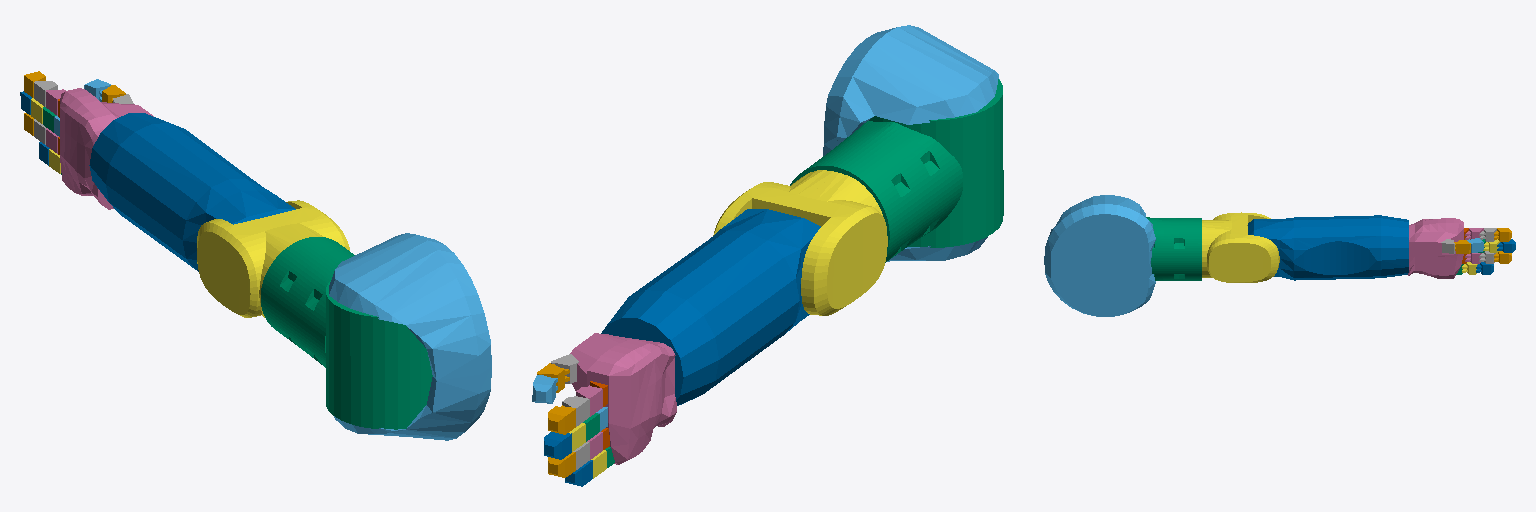
URDF robot description (ar600_hand):
<?xml version="1.0" ?>
<!-- =================================================================================== -->
<!-- |    This document was autogenerated by xacro from ar600.hand.urdf.xacro          | -->
<!-- |    EDITING THIS FILE BY HAND IS NOT RECOMMENDED                                 | -->
<!-- =================================================================================== -->
<robot name="ar600_hand" xmlns:controller="http://playerstage.sourceforge.net/gazebo/xmlschema/#controller" xmlns:interface="http://playerstage.sourceforge.net/gazebo/xmlschema/#interface" xmlns:sensor="http://playerstage.sourceforge.net/gazebo/xmlschema/#sensor" xmlns:xacro="http://ros.org/wiki/xacro">
  <gazebo>
    <plugin filename="libgazebo_ros_control.so" name="gazebo_ros_control">
      <robotNamespace>/ar600</robotNamespace>
    </plugin>
    <plugin filename="libgazebo_ros_controller_manager.so" name="gazebo_ros_controller_manager">
      <alwaysOn>true</alwaysOn>
      <updateRate>1000.0</updateRate>
      <robotNamespace>/ar600</robotNamespace>
    </plugin>
  </gazebo>
  <link name="base_link">
    <inertial>
      <mass value="10"/>
      <inertia ixx="1.0" ixy="0.0" ixz="0.0" iyy="1.0" iyz="0.0" izz="1.0"/>
    </inertial>
  </link>
  <link name="left_shoulder">
    <visual>
      <geometry>
        <mesh filename="package://ar600_description/meshes/left_shoulder_low.dae"/>
      </geometry>
    </visual>
    <inertial>
      <mass value="1"/>
      <inertia ixx="1.0" ixy="0.0" ixz="0.0" iyy="1.0" iyz="0.0" izz="1.0"/>
    </inertial>
  </link>
  <link name="left_upper_forearm">
    <visual>
      <geometry>
        <mesh filename="package://ar600_description/meshes/left_upper_arm_high.dae"/>
      </geometry>
    </visual>
    <inertial>
      <mass value="4"/>
      <inertia ixx="1.0" ixy="0.0" ixz="0.0" iyy="1.0" iyz="0.0" izz="1.0"/>
    </inertial>
    <collision>
      <geometry>
        <mesh filename="package://ar600_description/meshes/phys_model/forearm.stl"/>
      </geometry>
    </collision>
  </link>
  <link name="left_elbow">
    <visual>
      <geometry>
        <mesh filename="package://ar600_description/meshes/elbow_low.dae"/>
      </geometry>
    </visual>
    <inertial>
      <mass value="1"/>
      <inertia ixx="1.0" ixy="0.0" ixz="0.0" iyy="1.0" iyz="0.0" izz="1.0"/>
    </inertial>
    <collision>
      <geometry>
        <mesh filename="package://ar600_description/meshes/phys_model/elbow.stl"/>
      </geometry>
    </collision>
  </link>
  <link name="left_arm_link">
    <visual>
      <geometry>
        <mesh filename="package://ar600_description/meshes/left_arm.dae"/>
      </geometry>
    </visual>
    <inertial>
      <mass value="3"/>
      <inertia ixx="1.0" ixy="0.0" ixz="0.0" iyy="1.0" iyz="0.0" izz="1.0"/>
    </inertial>
    <collision>
      <geometry>
        <mesh filename="package://ar600_description/meshes/phys_model/arm.stl"/>
      </geometry>
    </collision>
  </link>
  <link name="left_hand_effector_link">
    <inertial>
      <mass value=".1"/>
      <inertia ixx="1.0" ixy="0.0" ixz="0.0" iyy="1.0" iyz="0.0" izz="1.0"/>
    </inertial>
  </link>
  <joint name="torso_left_shoulder" type="revolute">
    <parent link="base_link"/>
    <child link="left_shoulder"/>
    <origin rpy="0 0 1.57" xyz="0 0 0"/>
    <limit effort="1000.0" lower="-0.707" upper="1.57" velocity="0.5"/>
    <axis xyz="0 -1 0"/>
    <dynamics damping="20000.0"/>
  </joint>
  <joint name="left_upper_forearm_shoulder" type="revolute">
    <parent link="left_shoulder"/>
    <child link="left_upper_forearm"/>
    <origin rpy="-1.57 0 1.57" xyz="0 0.055 0"/>
    <limit effort="1000.0" lower="0.0" upper="1.57" velocity="0.5"/>
    <axis xyz="0 -1.0 0"/>
    <dynamics damping="20000.0"/>
  </joint>
  <joint name="left_upper_forearm_left_lower_forearm" type="revolute">
    <parent link="left_upper_forearm"/>
    <child link="left_elbow"/>
    <origin rpy="0 0 0" xyz="0 0 -0.12"/>
    <limit effort="1000.0" lower="-1.57" upper="1.57" velocity="0.5"/>
    <axis xyz="0 0 1"/>
    <dynamics damping="20000.0"/>
  </joint>
  <joint name="left_lower_forearm_arm" type="revolute">
    <parent link="left_elbow"/>
    <child link="left_arm_link"/>
    <origin rpy="0 0 0" xyz="0 0 -0.1"/>
    <limit effort="1000.0" lower="0" upper="1.57" velocity="0.5"/>
    <axis xyz="-1 0 0"/>
    <dynamics damping="20000.0"/>
  </joint>
  <joint name="left_lower_arm_effector" type="revolute">
    <parent link="left_arm_link"/>
    <child link="left_hand_effector_link"/>
    <limit effort="1000.0" lower="-0.707" upper="0.707" velocity="0.5"/>
    <origin rpy="0 0 0" xyz="0.005 0.005 -0.21"/>
    <axis xyz="0 0 -1"/>
    <dynamics damping="20000.0"/>
  </joint>
  <link name="left_palm">
    <visual>
      <geometry>
        <mesh filename="package://ar600_description/meshes/left_palm_vis.dae"/>
      </geometry>
    </visual>
    <inertial>
      <mass value="0.1"/>
      <inertia ixx="1.0" ixy="0.0" ixz="0.0" iyy="1.0" iyz="0.0" izz="1.0"/>
    </inertial>
    <collision>
      <geometry>
        <mesh filename="package://ar600_description/meshes/left_palm.stl"/>
      </geometry>
    </collision>
  </link>
  <link name="leftbigfingerseg1">
    <visual>
      <geometry>
        <mesh filename="package://ar600_description/meshes/finger_segment.dae"/>
      </geometry>
    </visual>
    <inertial>
      <mass value="0.05"/>
      <inertia ixx="1.0" ixy="0.0" ixz="0.0" iyy="1.0" iyz="0.0" izz="1.0"/>
    </inertial>
    <collision>
      <geometry>
        <mesh filename="package://ar600_description/meshes/finger_segment.stl"/>
      </geometry>
    </collision>
  </link>
  <link name="leftbigfingerseg2">
    <visual>
      <geometry>
        <mesh filename="package://ar600_description/meshes/finger_segment.dae"/>
      </geometry>
    </visual>
    <inertial>
      <mass value="0.05"/>
      <inertia ixx="1.0" ixy="0.0" ixz="0.0" iyy="1.0" iyz="0.0" izz="1.0"/>
    </inertial>
    <collision>
      <geometry>
        <mesh filename="package://ar600_description/meshes/finger_segment.stl"/>
      </geometry>
    </collision>
  </link>
  <link name="leftbigfingerseg3">
    <visual>
      <geometry>
        <mesh filename="package://ar600_description/meshes/finger_tip.dae"/>
      </geometry>
    </visual>
    <inertial>
      <mass value="0.05"/>
      <inertia ixx="1.0" ixy="0.0" ixz="0.0" iyy="1.0" iyz="0.0" izz="1.0"/>
    </inertial>
    <collision>
      <geometry>
        <mesh filename="package://ar600_description/meshes/finger_segment.stl"/>
      </geometry>
    </collision>
  </link>
  <joint name="arm_left_palm" type="revolute">
    <parent link="left_hand_effector_link"/>
    <child link="left_palm"/>
    <origin rpy="0 0 -1.57" xyz="0 0 0"/>
    <limit effort="1000.0" lower="-0.707" upper="0.707" velocity="0.5"/>
    <axis xyz="0 0 -1.0"/>
    <dynamics damping="0.7"/>
  </joint>
  <joint name="left_palm_thumb1" type="fixed">
    <parent link="left_palm"/>
    <child link="leftbigfingerseg1"/>
    <origin rpy="0.314 0 3.14" xyz="0.022 -0.025 -.045"/>
    <dynamics damping="0.7"/>
  </joint>
  <joint name="left_thumb1_thumb2" type="revolute">
    <parent link="leftbigfingerseg1"/>
    <child link="leftbigfingerseg2"/>
    <origin rpy="-0.314 0 0" xyz="0 0 -0.02"/>
    <limit effort="1000.0" lower="0" upper="0.707" velocity="0.5"/>
    <axis xyz="-1.0 0 0"/>
    <dynamics damping="0.7"/>
  </joint>
  <joint name="left_thumb2_thumb3" type="revolute">
    <parent link="leftbigfingerseg2"/>
    <child link="leftbigfingerseg3"/>
    <origin rpy="-0.314 0 0" xyz="0 0 -0.02"/>
    <limit effort="1000.0" lower="0" upper="0.707" velocity="0.5"/>
    <axis xyz="-1.0 0 0"/>
    <dynamics damping="0.7"/>
  </joint>
  <link name="leftf41">
    <visual>
      <geometry>
        <mesh filename="package://ar600_description/meshes/finger_segment.dae"/>
      </geometry>
    </visual>
    <inertial>
      <mass value="0.05"/>
      <inertia ixx="1.0" ixy="0.0" ixz="0.0" iyy="1.0" iyz="0.0" izz="1.0"/>
    </inertial>
    <collision>
      <geometry>
        <mesh filename="package://ar600_description/meshes/finger_segment.stl"/>
      </geometry>
    </collision>
  </link>
  <link name="leftf42">
    <visual>
      <geometry>
        <mesh filename="package://ar600_description/meshes/finger_segment.dae"/>
      </geometry>
    </visual>
    <inertial>
      <mass value="0.05"/>
      <inertia ixx="1.0" ixy="0.0" ixz="0.0" iyy="1.0" iyz="0.0" izz="1.0"/>
    </inertial>
    <collision>
      <geometry>
        <mesh filename="package://ar600_description/meshes/finger_segment.stl"/>
      </geometry>
    </collision>
  </link>
  <link name="leftf43">
    <visual>
      <geometry>
        <mesh filename="package://ar600_description/meshes/finger_tip.dae"/>
      </geometry>
    </visual>
    <inertial>
      <mass value="0.05"/>
      <inertia ixx="1.0" ixy="0.0" ixz="0.0" iyy="1.0" iyz="0.0" izz="1.0"/>
    </inertial>
    <collision>
      <geometry>
        <mesh filename="package://ar600_description/meshes/finger_segment.stl"/>
      </geometry>
    </collision>
  </link>
  <joint name="left_palm_f4" type="fixed">
    <parent link="left_palm"/>
    <child link="leftf41"/>
    <origin rpy="0 0 0" xyz="-0.03 0.01 -0.0575"/>
    <dynamics damping="0.7"/>
  </joint>
  <joint name="left_f41_f42" type="revolute">
    <parent link="leftf41"/>
    <child link="leftf42"/>
    <origin rpy="0 0 0" xyz="0 0 -0.02"/>
    <limit effort="1000.0" lower="0" upper="0.707" velocity="0.5"/>
    <axis xyz="-1.0 0 0"/>
    <dynamics damping="0.7"/>
  </joint>
  <joint name="left_f42_f43" type="revolute">
    <parent link="leftf42"/>
    <child link="leftf43"/>
    <origin rpy="0 0 0" xyz="0 0 -0.02"/>
    <limit effort="1000.0" lower="0" upper="0.707" velocity="0.5"/>
    <axis xyz="-1.0 0 0"/>
    <dynamics damping="0.7"/>
  </joint>
  <link name="leftf11">
    <visual>
      <geometry>
        <mesh filename="package://ar600_description/meshes/finger_segment.dae"/>
      </geometry>
    </visual>
    <inertial>
      <mass value="0.05"/>
      <inertia ixx="1.0" ixy="0.0" ixz="0.0" iyy="1.0" iyz="0.0" izz="1.0"/>
    </inertial>
    <collision>
      <geometry>
        <mesh filename="package://ar600_description/meshes/finger_segment.stl"/>
      </geometry>
    </collision>
  </link>
  <link name="leftf12">
    <visual>
      <geometry>
        <mesh filename="package://ar600_description/meshes/finger_segment.dae"/>
      </geometry>
    </visual>
    <inertial>
      <mass value="0.05"/>
      <inertia ixx="1.0" ixy="0.0" ixz="0.0" iyy="1.0" iyz="0.0" izz="1.0"/>
    </inertial>
    <collision>
      <geometry>
        <mesh filename="package://ar600_description/meshes/finger_segment.stl"/>
      </geometry>
    </collision>
  </link>
  <link name="leftf13">
    <visual>
      <geometry>
        <mesh filename="package://ar600_description/meshes/finger_segment.dae"/>
      </geometry>
    </visual>
    <inertial>
      <mass value="0.05"/>
      <inertia ixx="1.0" ixy="0.0" ixz="0.0" iyy="1.0" iyz="0.0" izz="1.0"/>
    </inertial>
    <collision>
      <geometry>
        <mesh filename="package://ar600_description/meshes/finger_segment.stl"/>
      </geometry>
    </collision>
  </link>
  <link name="leftf14">
    <visual>
      <geometry>
        <mesh filename="package://ar600_description/meshes/finger_tip.dae"/>
      </geometry>
    </visual>
    <inertial>
      <mass value="0.05"/>
      <inertia ixx="1.0" ixy="0.0" ixz="0.0" iyy="1.0" iyz="0.0" izz="1.0"/>
    </inertial>
    <collision>
      <geometry>
        <mesh filename="package://ar600_description/meshes/finger_segment.stl"/>
      </geometry>
    </collision>
  </link>
  <joint name="left_palm_f1" type="fixed">
    <parent link="left_palm"/>
    <child link="leftf11"/>
    <origin rpy="0 0 0" xyz="0.022 0.01 -0.0625"/>
  </joint>
  <joint name="left_f11_f12" type="revolute">
    <parent link="leftf11"/>
    <child link="leftf12"/>
    <origin rpy="0 0 0" xyz="0 0 -0.02"/>
    <limit effort="1000.0" lower="0" upper="0.707" velocity="0.5"/>
    <axis xyz="-1.0 0 0"/>
  </joint>
  <joint name="left_f12_f13" type="revolute">
    <parent link="leftf12"/>
    <child link="leftf13"/>
    <origin rpy="0 0 0" xyz="0 0 -0.02"/>
    <limit effort="1000.0" lower="0" upper="0.707" velocity="0.5"/>
    <axis xyz="-1.0 0 0"/>
  </joint>
  <joint name="left_f13_f14" type="revolute">
    <parent link="leftf13"/>
    <child link="leftf14"/>
    <origin rpy="0 0 0" xyz="0 0 -0.02"/>
    <limit effort="1000.0" lower="0" upper="0.707" velocity="0.5"/>
    <axis xyz="-1.0 0 0"/>
  </joint>
  <link name="leftf21">
    <visual>
      <geometry>
        <mesh filename="package://ar600_description/meshes/finger_segment.dae"/>
      </geometry>
    </visual>
    <inertial>
      <mass value="0.05"/>
      <inertia ixx="1.0" ixy="0.0" ixz="0.0" iyy="1.0" iyz="0.0" izz="1.0"/>
    </inertial>
    <collision>
      <geometry>
        <mesh filename="package://ar600_description/meshes/finger_segment.stl"/>
      </geometry>
    </collision>
  </link>
  <link name="leftf22">
    <visual>
      <geometry>
        <mesh filename="package://ar600_description/meshes/finger_segment.dae"/>
      </geometry>
    </visual>
    <inertial>
      <mass value="0.05"/>
      <inertia ixx="1.0" ixy="0.0" ixz="0.0" iyy="1.0" iyz="0.0" izz="1.0"/>
    </inertial>
    <collision>
      <geometry>
        <mesh filename="package://ar600_description/meshes/finger_segment.stl"/>
      </geometry>
    </collision>
  </link>
  <link name="leftf23">
    <visual>
      <geometry>
        <mesh filename="package://ar600_description/meshes/finger_segment.dae"/>
      </geometry>
    </visual>
    <inertial>
      <mass value="0.05"/>
      <inertia ixx="1.0" ixy="0.0" ixz="0.0" iyy="1.0" iyz="0.0" izz="1.0"/>
    </inertial>
    <collision>
      <geometry>
        <mesh filename="package://ar600_description/meshes/finger_segment.stl"/>
      </geometry>
    </collision>
  </link>
  <link name="leftf24">
    <visual>
      <geometry>
        <mesh filename="package://ar600_description/meshes/finger_tip.dae"/>
      </geometry>
    </visual>
    <inertial>
      <mass value="0.05"/>
      <inertia ixx="1.0" ixy="0.0" ixz="0.0" iyy="1.0" iyz="0.0" izz="1.0"/>
    </inertial>
    <collision>
      <geometry>
        <mesh filename="package://ar600_description/meshes/finger_segment.stl"/>
      </geometry>
    </collision>
  </link>
  <joint name="left_palm_f2" type="fixed">
    <parent link="left_palm"/>
    <child link="leftf21"/>
    <origin rpy="0 0 0" xyz="0.004 0.01 -0.068"/>
  </joint>
  <joint name="left_f21_f22" type="revolute">
    <parent link="leftf21"/>
    <child link="leftf22"/>
    <origin rpy="0 0 0" xyz="0 0 -0.02"/>
    <limit effort="1000.0" lower="0" upper="0.707" velocity="0.5"/>
    <axis xyz="-1.0 0 0"/>
  </joint>
  <joint name="left_f22_f23" type="revolute">
    <parent link="leftf22"/>
    <child link="leftf23"/>
    <origin rpy="0 0 0" xyz="0 0 -0.02"/>
    <limit effort="1000.0" lower="0" upper="0.707" velocity="0.5"/>
    <axis xyz="-1.0 0 0"/>
  </joint>
  <joint name="left_f23_f24" type="revolute">
    <parent link="leftf23"/>
    <child link="leftf24"/>
    <origin rpy="0 0 0" xyz="0 0 -0.02"/>
    <limit effort="1000.0" lower="0" upper="0.707" velocity="0.5"/>
    <axis xyz="-1.0 0 0"/>
  </joint>
  <link name="leftf31">
    <visual>
      <geometry>
        <mesh filename="package://ar600_description/meshes/finger_segment.dae"/>
      </geometry>
    </visual>
    <inertial>
      <mass value="0.05"/>
      <inertia ixx="1.0" ixy="0.0" ixz="0.0" iyy="1.0" iyz="0.0" izz="1.0"/>
    </inertial>
    <collision>
      <geometry>
        <mesh filename="package://ar600_description/meshes/finger_segment.stl"/>
      </geometry>
    </collision>
  </link>
  <link name="leftf32">
    <visual>
      <geometry>
        <mesh filename="package://ar600_description/meshes/finger_segment.dae"/>
      </geometry>
    </visual>
    <inertial>
      <mass value="0.05"/>
      <inertia ixx="1.0" ixy="0.0" ixz="0.0" iyy="1.0" iyz="0.0" izz="1.0"/>
    </inertial>
    <collision>
      <geometry>
        <mesh filename="package://ar600_description/meshes/finger_segment.stl"/>
      </geometry>
    </collision>
  </link>
  <link name="leftf33">
    <visual>
      <geometry>
        <mesh filename="package://ar600_description/meshes/finger_segment.dae"/>
      </geometry>
    </visual>
    <inertial>
      <mass value="0.05"/>
      <inertia ixx="1.0" ixy="0.0" ixz="0.0" iyy="1.0" iyz="0.0" izz="1.0"/>
    </inertial>
    <collision>
      <geometry>
        <mesh filename="package://ar600_description/meshes/finger_segment.stl"/>
      </geometry>
    </collision>
  </link>
  <link name="leftf34">
    <visual>
      <geometry>
        <mesh filename="package://ar600_description/meshes/finger_tip.dae"/>
      </geometry>
    </visual>
    <inertial>
      <mass value="0.05"/>
      <inertia ixx="1.0" ixy="0.0" ixz="0.0" iyy="1.0" iyz="0.0" izz="1.0"/>
    </inertial>
    <collision>
      <geometry>
        <mesh filename="package://ar600_description/meshes/finger_segment.stl"/>
      </geometry>
    </collision>
  </link>
  <joint name="left_palm_f3" type="fixed">
    <parent link="left_palm"/>
    <child link="leftf31"/>
    <origin rpy="0 0 0" xyz="-0.013 0.01 -0.0625"/>
  </joint>
  <joint name="left_f31_f32" type="revolute">
    <parent link="leftf31"/>
    <child link="leftf32"/>
    <origin rpy="0 0 0" xyz="0 0 -0.02"/>
    <limit effort="1000.0" lower="0" upper="0.707" velocity="0.5"/>
    <axis xyz="-1.0 0 0"/>
  </joint>
  <joint name="left_f32_f33" type="revolute">
    <parent link="leftf32"/>
    <child link="leftf33"/>
    <origin rpy="0 0 0" xyz="0 0 -0.02"/>
    <limit effort="1000.0" lower="0" upper="0.707" velocity="0.5"/>
    <axis xyz="-1.0 0 0"/>
  </joint>
  <joint name="left_f33_f34" type="revolute">
    <parent link="leftf33"/>
    <child link="leftf34"/>
    <origin rpy="0 0 0" xyz="0 0 -0.02"/>
    <limit effort="1000.0" lower="0" upper="0.707" velocity="0.5"/>
    <axis xyz="-1.0 0 0"/>
  </joint>
</robot>

--- What the picture shows (computed from the rendered views, not written in the file) ---
The picture shows the robot from 3 angles, left to right: view 1: azimuth 30°, elevation 25°; view 2: azimuth 150°, elevation 25°; view 3: azimuth 270°, elevation 25°; orthographic projection.
Model ar600_hand with 25 links and 24 joints (19 revolute, 5 fixed), rooted at base_link, posed every joint at zero.
Visible links, largest first — view 1: left_shoulder, left_upper_forearm, left_arm_link, left_elbow, left_palm; view 2: left_arm_link, left_upper_forearm, left_shoulder, left_elbow, left_palm, leftf14, leftf24, leftbigfingerseg3, leftf34; view 3: left_shoulder, left_arm_link, left_elbow, left_upper_forearm, left_palm.
Boxes of the visible links, x1,y1,x2,y2 form: left_shoulder: [329, 233, 491, 440]; left_upper_forearm: [261, 237, 432, 429]; left_arm_link: [89, 113, 295, 271]; left_elbow: [197, 200, 349, 317]; left_palm: [60, 88, 153, 209]; left_arm_link: [601, 209, 820, 405]; left_upper_forearm: [790, 79, 1003, 262]; left_shoulder: [823, 25, 999, 261]; left_elbow: [713, 170, 887, 315]; left_palm: [570, 333, 676, 464]; leftf14: [548, 405, 575, 434]; leftf24: [544, 432, 571, 459]; leftbigfingerseg3: [532, 375, 557, 403]; leftf34: [548, 452, 575, 477]; left_shoulder: [1044, 195, 1155, 316]; left_arm_link: [1248, 215, 1408, 280]; left_elbow: [1202, 212, 1279, 282]; left_upper_forearm: [1146, 217, 1201, 280]; left_palm: [1408, 218, 1463, 278].
Bounding box of the posed robot: 0.1077 × 0.6685 × 0.1777 m (x, y, z).
Meshes: 7 distinct files referenced, 23 mesh visuals loaded (7 Collada DAE).